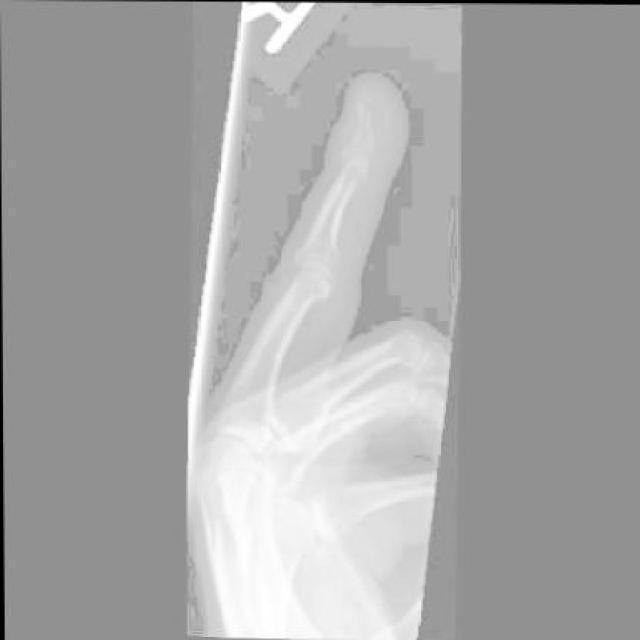Fracture: (354, 92, 374, 116)
